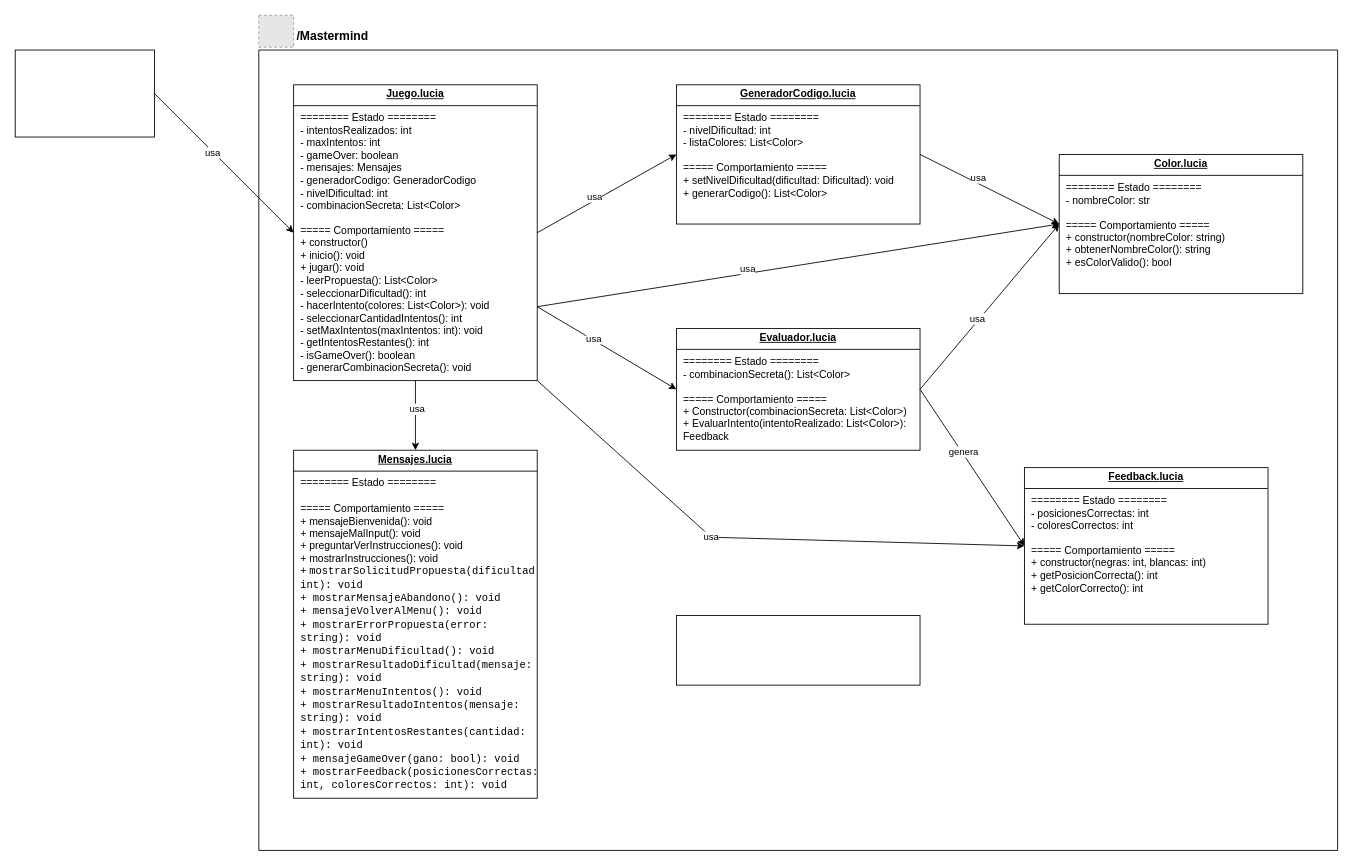
Some shapes in this 1353 by 866 pixel diagram are drawn without their labels. Grey dashed boxes stand in for pictures. Here are the shapes that lost their labels. From the top down, the centre of each, then its label:
At point 84,93: "main.lucia (No-Clase) + main(): void Punto de entrada del programa".
At point 798,650: "Dificultad. lucia (No-Clase) + NORMAL: int + ALTA: int".
